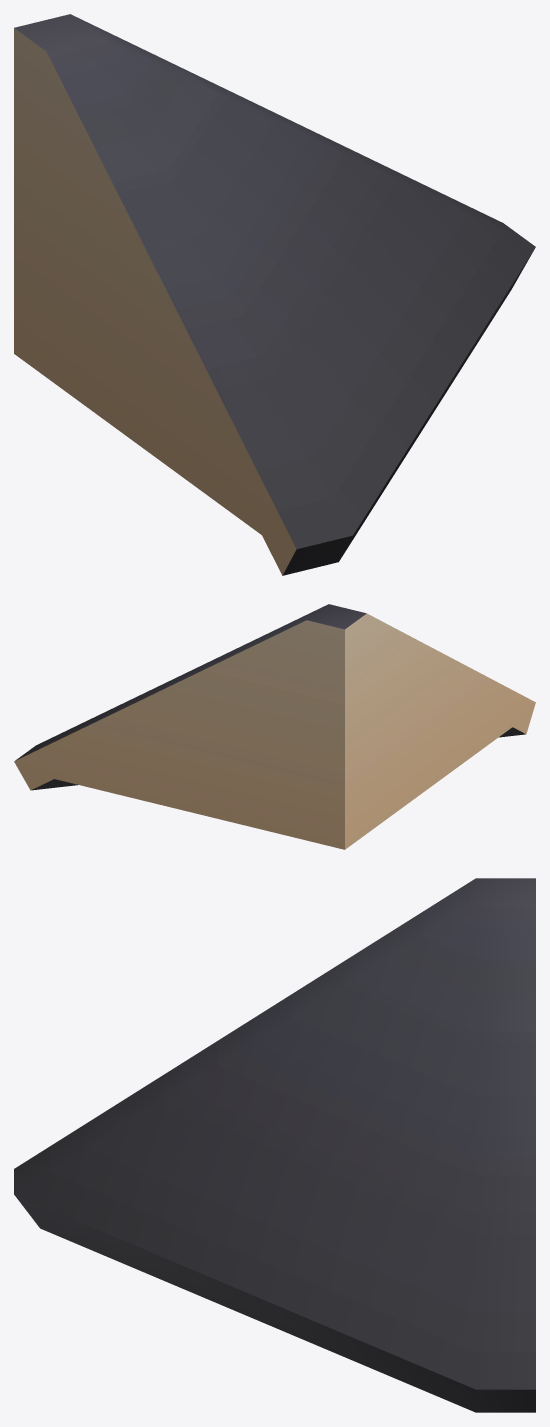
Rendered from kenney-modular-buildings-roof-slanted-corner-b.glb.
The picture shows the model from 3 angles, top to bottom: view 1: azimuth 30°, elevation 25°; view 2: azimuth 150°, elevation 25°; view 3: azimuth 270°, elevation 25°; orthographic projection. The views are drawn at different scales.
Parts seen in each view (by area): view 1: roof-slanted-corner-b; view 2: roof-slanted-corner-b; view 3: roof-slanted-corner-b.
Part boxes in pixels (x1,y1,x2,y2): roof-slanted-corner-b: (14, 14, 535, 575); roof-slanted-corner-b: (14, 604, 535, 849); roof-slanted-corner-b: (14, 878, 535, 1412).
Bounding box in the file's own units: 1.14 × 0.782 × 1.14.
Materials: 1 (1 with a texture image).
